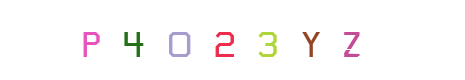0: (181, 0, 261, 80)
2: (184, 0, 264, 80)
3: (192, 0, 272, 80)
4: (156, 0, 236, 80)
P: (94, 0, 174, 80)
Y: (220, 0, 300, 80)
Z: (271, 0, 351, 80)
